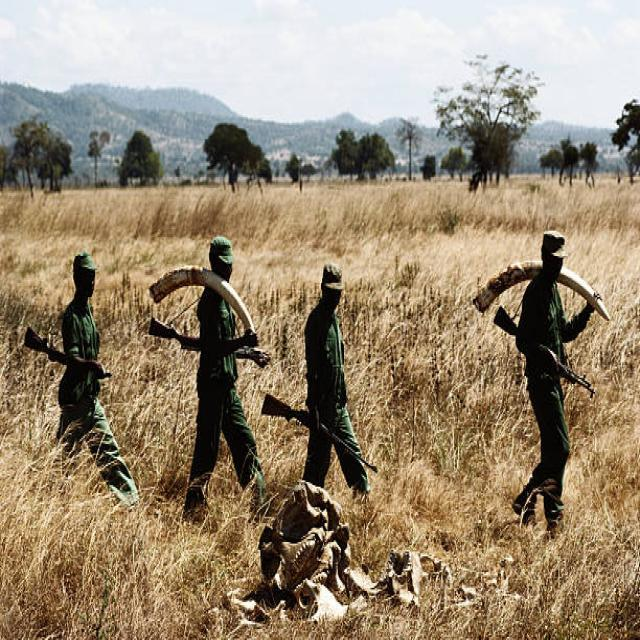p_annotate: (466, 253, 616, 321)
poacher: (164, 206, 262, 522), (501, 216, 588, 524), (32, 246, 124, 501), (288, 247, 374, 486)
weapon: (264, 382, 392, 482), (498, 302, 600, 395), (153, 312, 270, 368), (23, 326, 111, 380)
